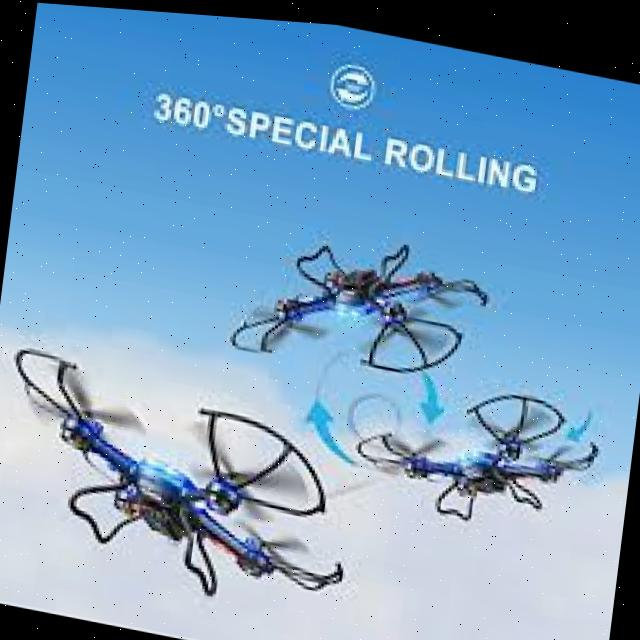drone: (0, 318, 374, 640), (339, 343, 614, 553), (232, 211, 494, 393)
